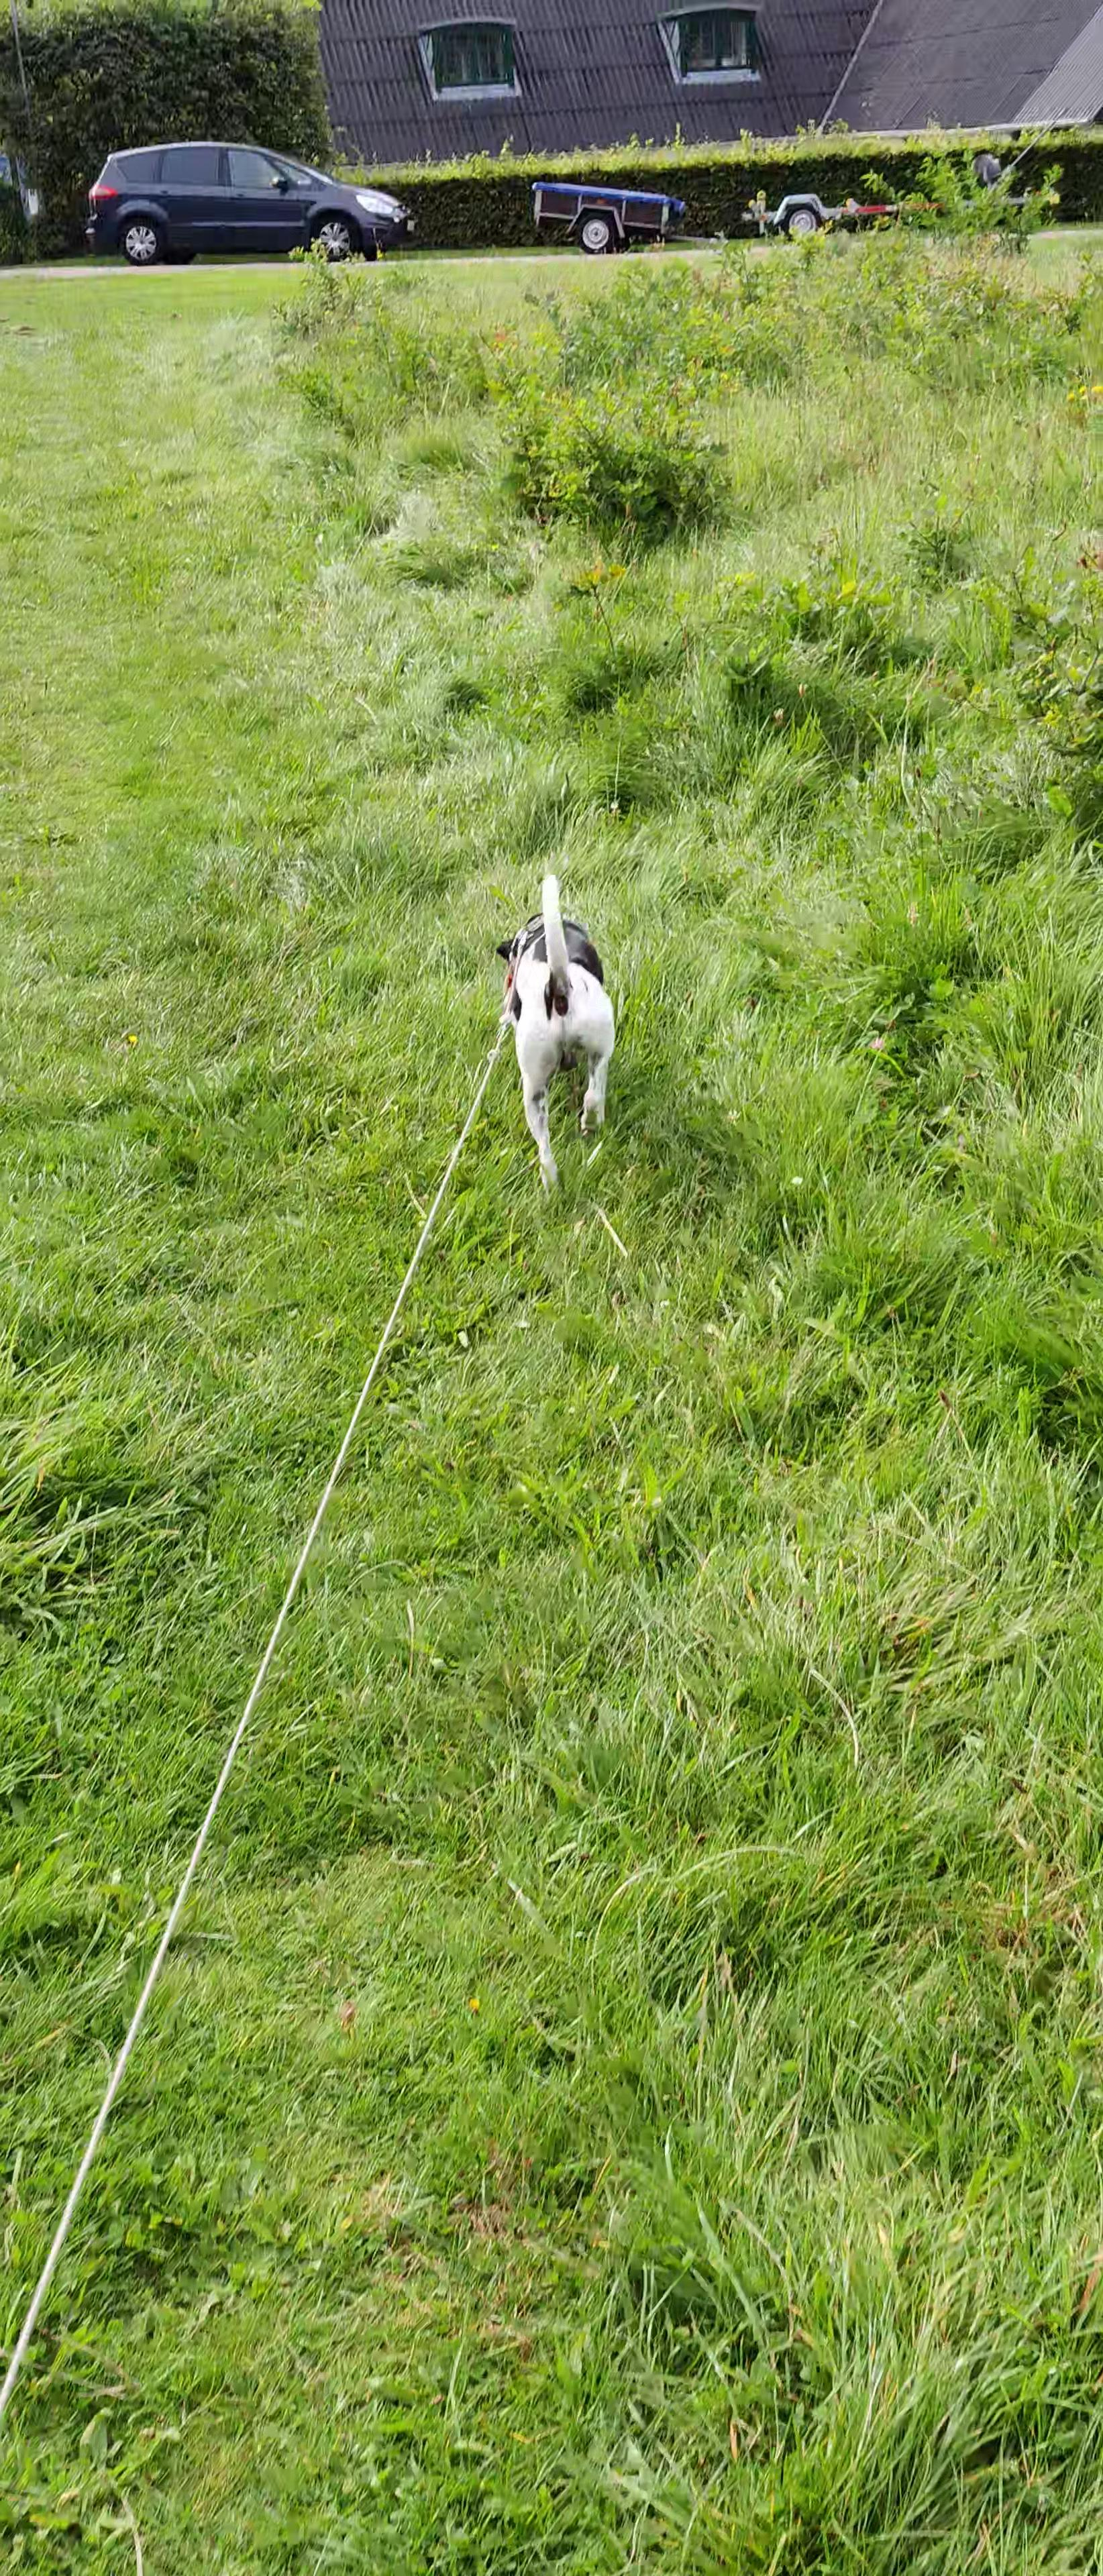Dog: (490, 861, 626, 1211)
